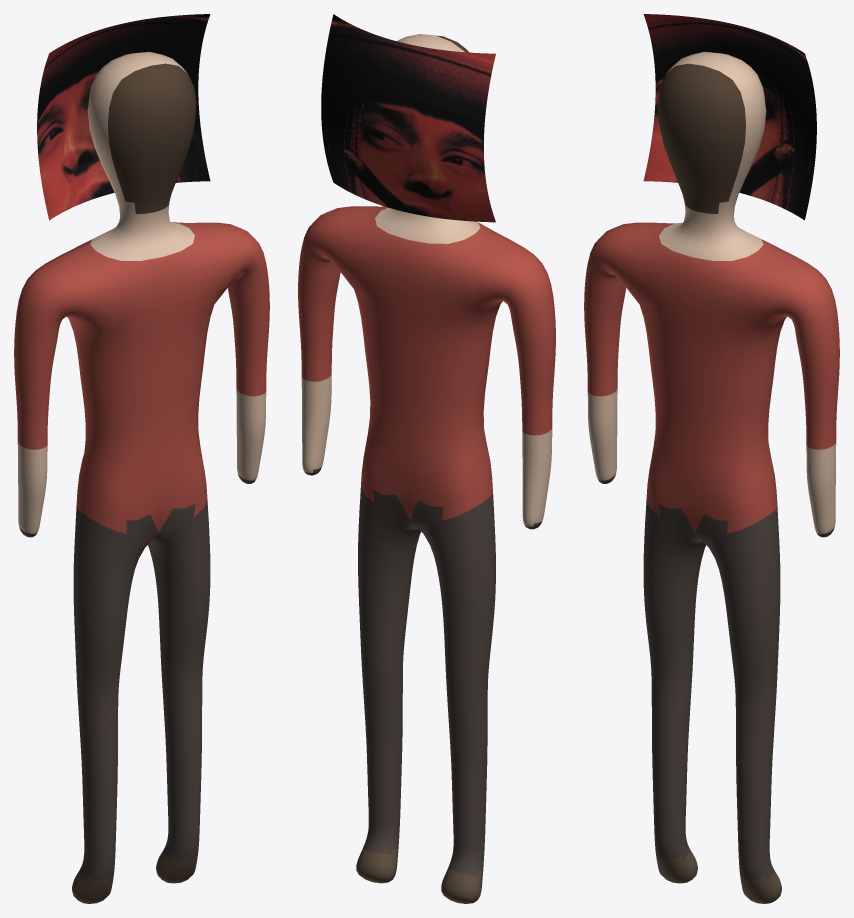
Rendered from character.glb.
The picture shows the model from 3 angles, left to right: view 1: azimuth 30°, elevation 25°; view 2: azimuth 150°, elevation 25°; view 3: azimuth 330°, elevation 25°; orthographic projection.
Visible parts, largest first — view 1: character; view 2: character; view 3: character.
Boxes of the visible parts, left/top/right/bottom form: character: left=14, top=14, right=269, bottom=903; character: left=298, top=14, right=555, bottom=903; character: left=584, top=14, right=839, bottom=903.
Size of the model in its own units: 0.5909 by 1.94 by 0.2548.
Materials: 6 (1 with a texture image).
